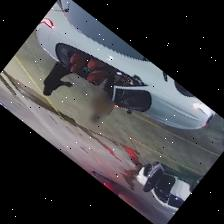person: (90, 76, 115, 123), (43, 62, 72, 95)
